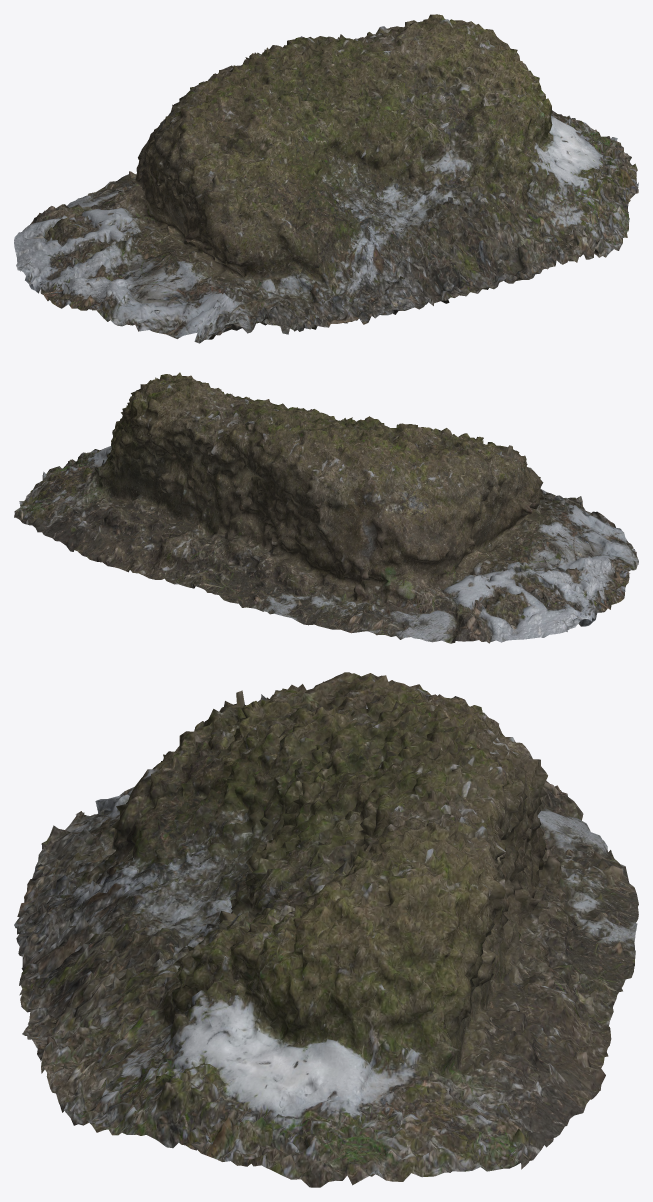
File: PX_Mossy_Stone_01_LOD0.fbx
The picture shows the model from 3 angles, top to bottom: view 1: azimuth 30°, elevation 25°; view 2: azimuth 150°, elevation 25°; view 3: azimuth 270°, elevation 25°; orthographic projection. The views are drawn at different scales.
Visible parts, largest first — view 1: PX_Mossy_Stone_01_LOD0; view 2: PX_Mossy_Stone_01_LOD0; view 3: PX_Mossy_Stone_01_LOD0.
Boxes of the visible parts, left/top/right/bottom form: PX_Mossy_Stone_01_LOD0: left=14, top=14, right=638, bottom=343; PX_Mossy_Stone_01_LOD0: left=14, top=372, right=638, bottom=643; PX_Mossy_Stone_01_LOD0: left=14, top=672, right=638, bottom=1187.
Size of the model in its own units: 242 by 63.73 by 149.
